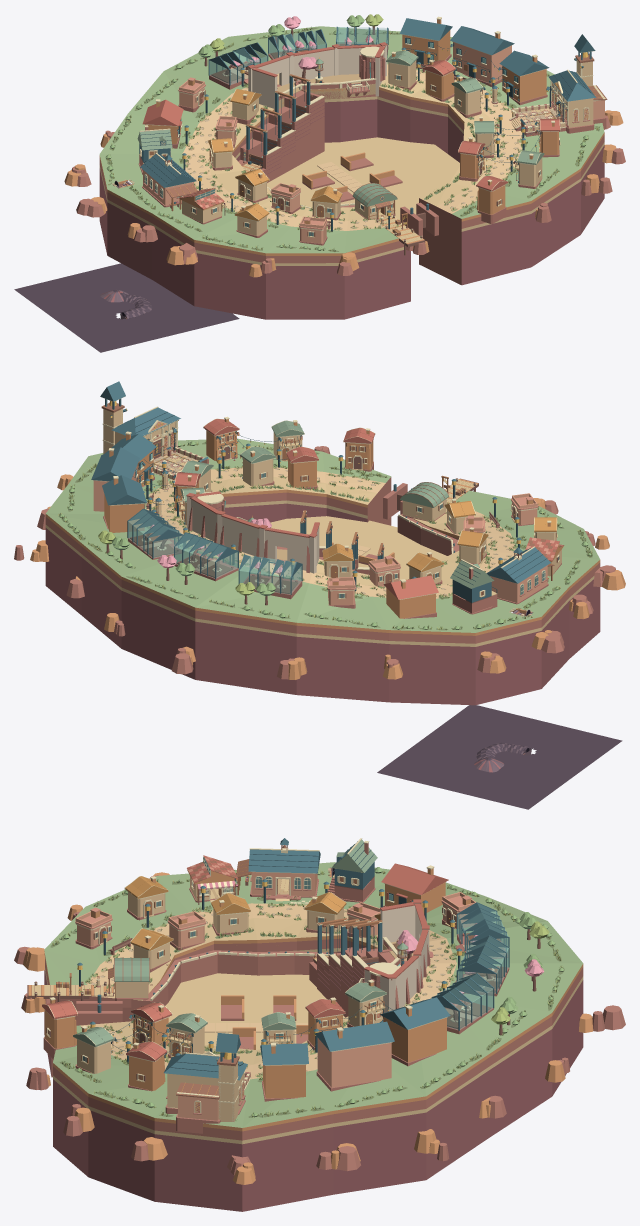
The model's file is colonie_du_lagon.glb.
The picture shows the model from 3 angles, top to bottom: view 1: azimuth 30°, elevation 25°; view 2: azimuth 150°, elevation 25°; view 3: azimuth 270°, elevation 25°; orthographic projection. The views are drawn at different scales.
Parts seen in each view (by area): view 1: Roche_grotte_aube, Port_englouti-col, Terrasse_17-col, Terrasse_01-col, Terrasse_02-col, Terrasse_00-col, Terrasse_16-col, Recifs_et_bancs_de_sable, Terrasse_04-col, Murs_de_l_ecluse-col, Terrasse_03-col, Mur_du_jardin-col (+39 smaller); view 2: Roche_grotte_aube, Terrasse_08-col, Terrasse_07-col, Terrasse_06-col, Terrasse_09-col, Terrasse_05-col, Recifs_et_bancs_de_sable, Mur_du_jardin-col, Terrasse_10-col, Terrasse_11-col, Port_englouti-col, Terrasse_17-col (+31 smaller); view 3: Terrasse_13-col, Terrasse_12-col, Port_englouti-col, Terrasse_14-col, Recifs_et_bancs_de_sable, Terrasse_10-col, Terrasse_11-col, Terrasse_15-col, Terrasse_09-col, Maison_aux_projecteurs-col, Chemin_de_halage-col, Terrasse_16-col (+54 smaller).
Part boxes in pixels (x1=…): Roche_grotte_aube: x1=14, y1=263, x2=239, y2=352; Port_englouti-col: x1=267, y1=137, x2=459, y2=220; Terrasse_17-col: x1=419, y1=183, x2=531, y2=285; Terrasse_01-col: x1=266, y1=207, x2=349, y2=319; Terrasse_02-col: x1=194, y1=200, x2=308, y2=319; Terrasse_00-col: x1=344, y1=207, x2=410, y2=319; Terrasse_16-col: x1=449, y1=162, x2=580, y2=266; Recifs_et_bancs_de_sable: x1=64, y1=110, x2=625, y2=277; Terrasse_04-col: x1=107, y1=170, x2=247, y2=279; Murs_de_l_ecluse-col: x1=240, y1=90, x2=324, y2=182; Terrasse_03-col: x1=152, y1=187, x2=271, y2=305; Mur_du_jardin-col: x1=247, y1=42, x2=387, y2=111; Roche_grotte_aube: x1=377, y1=705, x2=622, y2=809; Terrasse_08-col: x1=195, y1=559, x2=312, y2=694; Terrasse_07-col: x1=296, y1=559, x2=388, y2=702; Terrasse_06-col: x1=358, y1=572, x2=475, y2=705; Terrasse_09-col: x1=121, y1=550, x2=253, y2=679; Terrasse_05-col: x1=405, y1=578, x2=541, y2=704; Recifs_et_bancs_de_sable: x1=14, y1=446, x2=625, y2=679; Mur_du_jardin-col: x1=186, y1=491, x2=319, y2=573; Terrasse_10-col: x1=81, y1=529, x2=213, y2=648; Terrasse_11-col: x1=45, y1=513, x2=186, y2=614; Port_englouti-col: x1=270, y1=516, x2=447, y2=580; Terrasse_17-col: x1=322, y1=452, x2=391, y2=525; Terrasse_13-col: x1=242, y1=1049, x2=333, y2=1211; Terrasse_12-col: x1=302, y1=1040, x2=426, y2=1194; Port_englouti-col: x1=165, y1=973, x2=345, y2=1049; Terrasse_14-col: x1=154, y1=1048, x2=255, y2=1211; Recifs_et_bancs_de_sable: x1=14, y1=872, x2=625, y2=1184; Terrasse_10-col: x1=403, y1=990, x2=552, y2=1137; Terrasse_11-col: x1=343, y1=1016, x2=489, y2=1179; Terrasse_15-col: x1=88, y1=1045, x2=215, y2=1201; Terrasse_09-col: x1=420, y1=963, x2=583, y2=1095; Maison_aux_projecteurs-col: x1=314, y1=1021, x2=394, y2=1091; Chemin_de_halage-col: x1=142, y1=950, x2=340, y2=1006; Terrasse_16-col: x1=53, y1=1041, x2=169, y2=1176.
Size of what is drawn, in the model's own units: 131 by 52.26 by 106.
